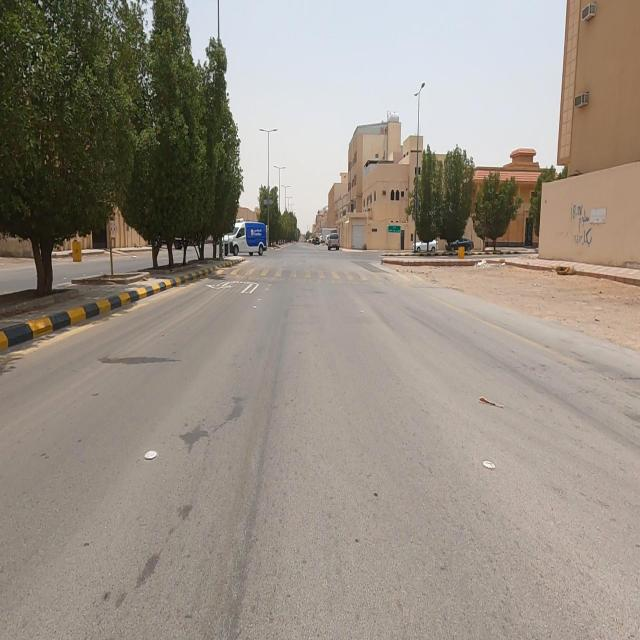Graffiti: (570, 204, 595, 249)
